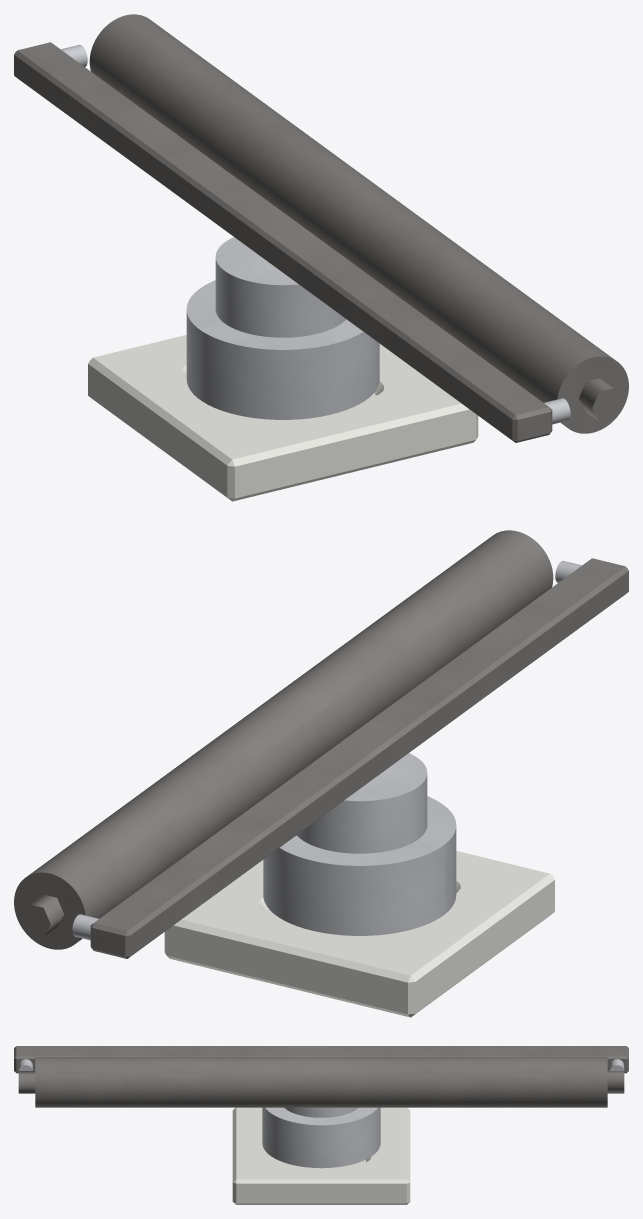
Rendered from ax_power_01_roll_out_array_l.glb.
3 renders of one model, top to bottom at view 1: azimuth 30°, elevation 25°; view 2: azimuth 150°, elevation 25°; view 3: azimuth 270°, elevation 25°, orthographic. The views are drawn at different scales.
Visible parts, largest first — view 1: panel_roll, yoke, mount_block, gimbal; view 2: panel_roll, yoke, mount_block, gimbal; view 3: panel_roll, mount_block, yoke, gimbal.
Part boxes in pixels (<box>): panel_roll: <box>89,14,628,433</box>; yoke: <box>14,42,552,442</box>; mount_block: <box>88,335,478,501</box>; gimbal: <box>186,237,379,419</box>; panel_roll: <box>14,530,553,949</box>; yoke: <box>90,558,628,958</box>; mount_block: <box>164,851,554,1017</box>; gimbal: <box>263,753,456,935</box>; panel_roll: <box>18,1057,624,1107</box>; mount_block: <box>232,1107,410,1204</box>; yoke: <box>14,1046,628,1073</box>; gimbal: <box>262,1107,380,1168</box>.
Size of the model in its own units: 0.75 by 0.6175 by 2.6.
Materials: 3 (2 with a texture image).
